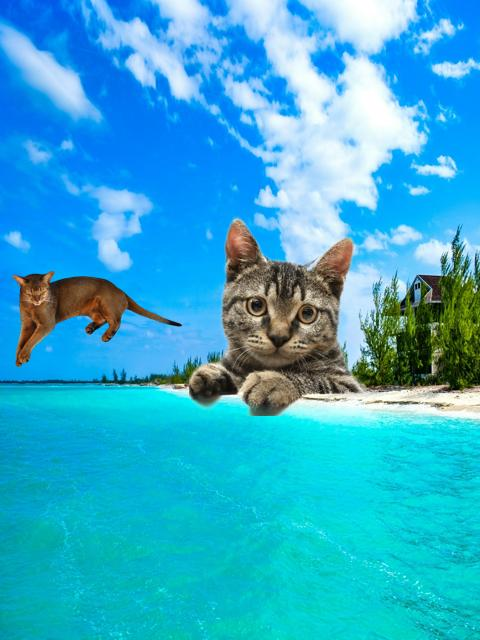cat: (191, 217, 365, 414), (14, 273, 180, 365)
